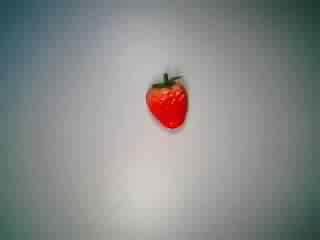strawberry: (132, 65, 198, 131)
